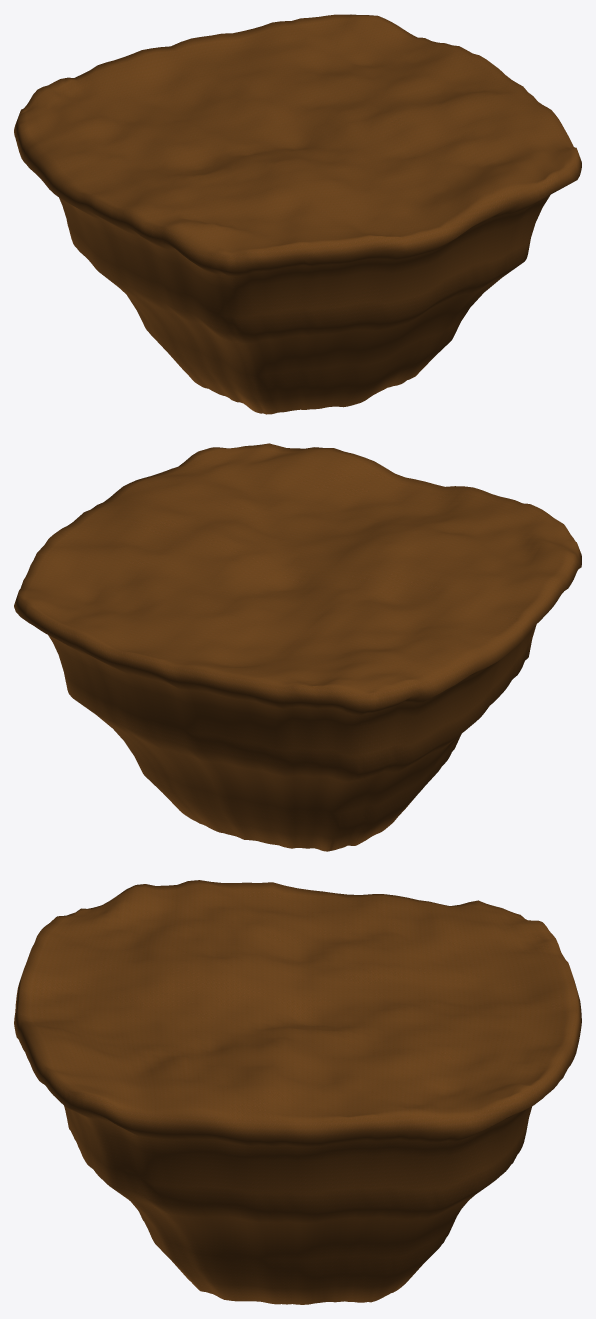
File: groundtextest.gltf
3 renders of one model, top to bottom at view 1: azimuth 30°, elevation 25°; view 2: azimuth 150°, elevation 25°; view 3: azimuth 270°, elevation 25°, orthographic. The views are drawn at different scales.
Parts seen in each view (by area): view 1: Plane; view 2: Plane; view 3: Plane.
Boxes of the visible parts, <box> form: Plane: <box>14,14,581,414</box>; Plane: <box>14,443,581,851</box>; Plane: <box>14,880,581,1304</box>.
Size of the model in its own units: 2613 by 1372 by 2614.
Materials: 1 (1 with a texture image).
